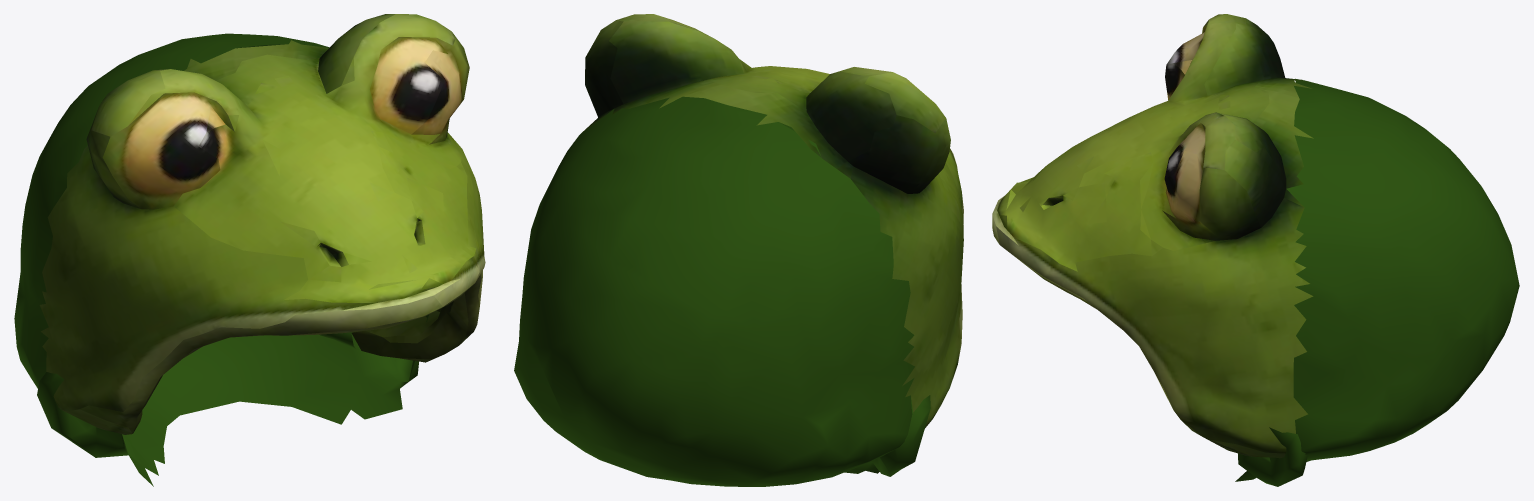
File: frog.glb
3 views of the same model, side by side, from view 1: azimuth 30°, elevation 25°; view 2: azimuth 150°, elevation 25°; view 3: azimuth 270°, elevation 25° (orthographic). The views are drawn at different scales.
Parts seen in each view (by area): view 1: geometry_0, HoodAnatomicalLining; view 2: geometry_0, HoodAnatomicalLining; view 3: geometry_0, HoodAnatomicalLining.
Part boxes in pixels (box(x1,y1,x2,y2)): geometry_0: box(14, 14, 485, 434); HoodAnatomicalLining: box(37, 314, 429, 486); geometry_0: box(514, 14, 963, 486); HoodAnatomicalLining: box(779, 122, 930, 476); geometry_0: box(992, 14, 1519, 460); HoodAnatomicalLining: box(1235, 362, 1310, 486).
Size of the model in its own units: 0.512 by 0.511 by 0.6631.
2 materials, 1 textured.
